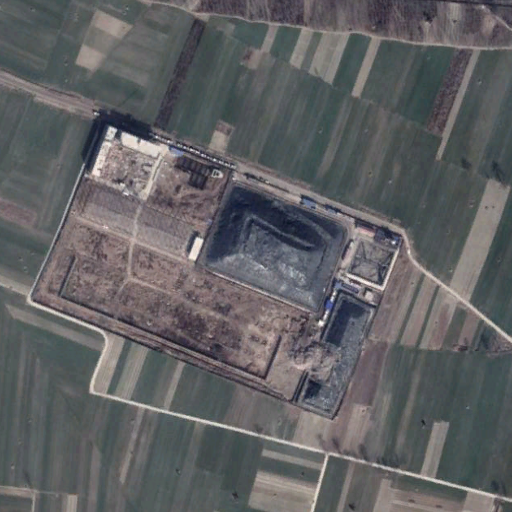lf: (194, 181, 346, 310), (298, 290, 370, 415)
